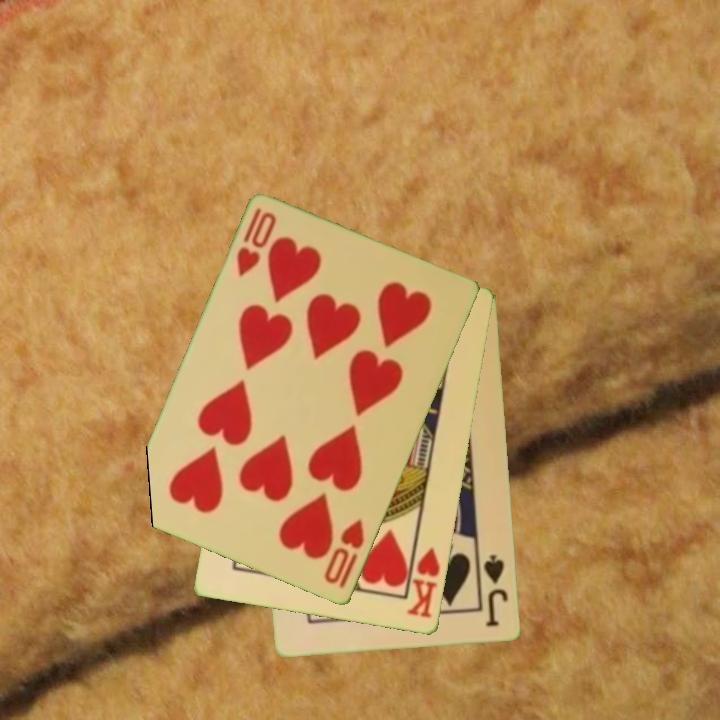10h: (233, 205, 280, 281), (321, 516, 368, 588)
Js: (480, 552, 511, 630)
Kh: (404, 537, 443, 622)
